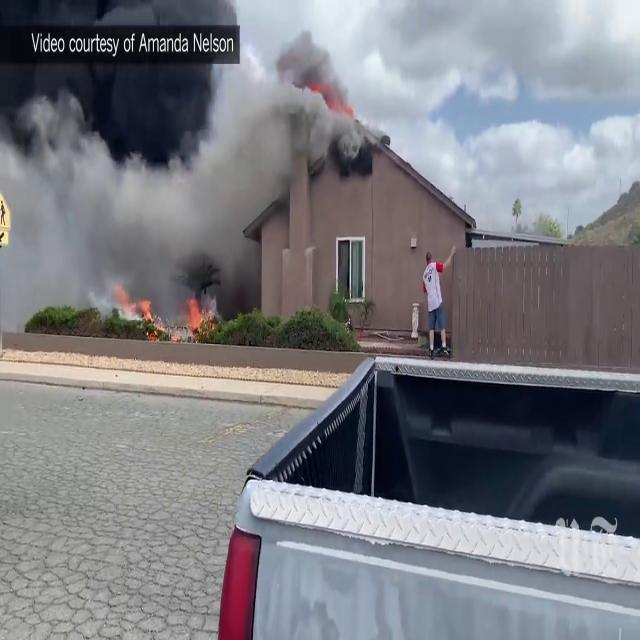Smoke: (1, 0, 357, 313)
